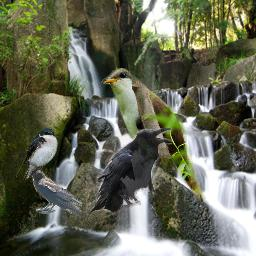Crow: (86, 128, 172, 217), (25, 170, 82, 216)
Cuckoo: (98, 68, 210, 202)
Swallow: (16, 126, 59, 183)
